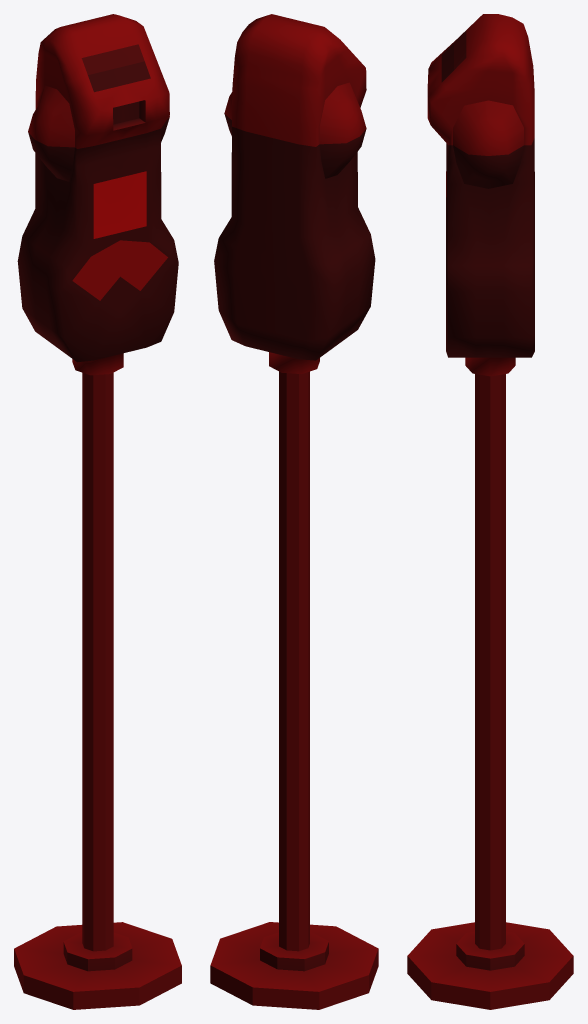
The model's file is ParkingMeter.glb.
3 views of the same model, side by side, from view 1: azimuth 30°, elevation 25°; view 2: azimuth 150°, elevation 25°; view 3: azimuth 270°, elevation 25° (orthographic).
Visible parts, largest first — view 1: ParkingMeter; view 2: ParkingMeter; view 3: ParkingMeter.
Boxes of the visible parts, <box> form: ParkingMeter: <box>14,14,181,1009</box>; ParkingMeter: <box>210,14,378,1009</box>; ParkingMeter: <box>407,14,573,1009</box>.
Bounding box in the file's own units: 1.02 × 6.21 × 0.9867.
